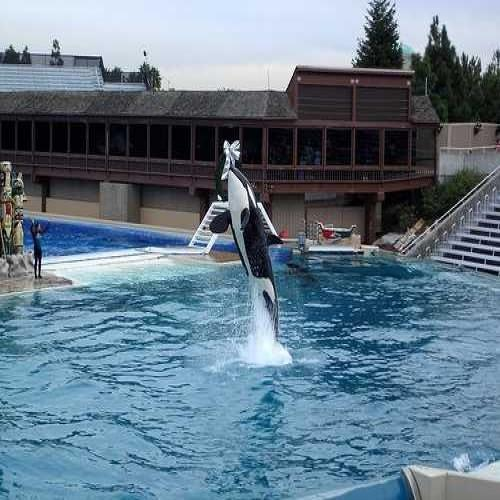killer_whale-endangered: (204, 146, 300, 363)
